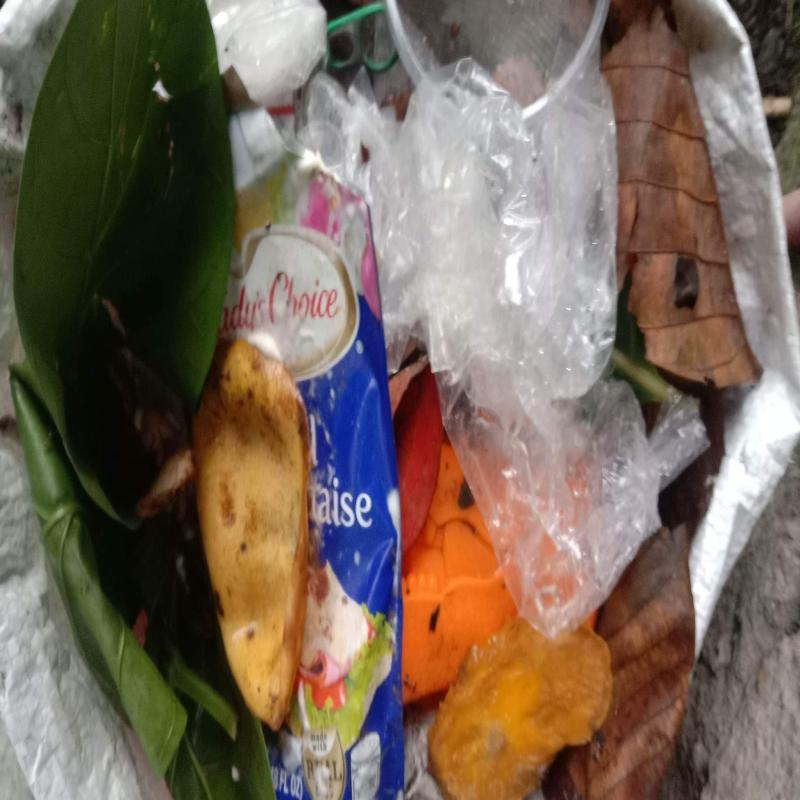fruit peels: (190, 341, 309, 731), (428, 621, 614, 800), (402, 444, 518, 713)
plastic bag: (380, 0, 706, 638)
plastic sachet: (219, 71, 405, 800)
treeleaves: (600, 0, 766, 393), (536, 523, 696, 800)
vegetable peels: (9, 0, 264, 800)
